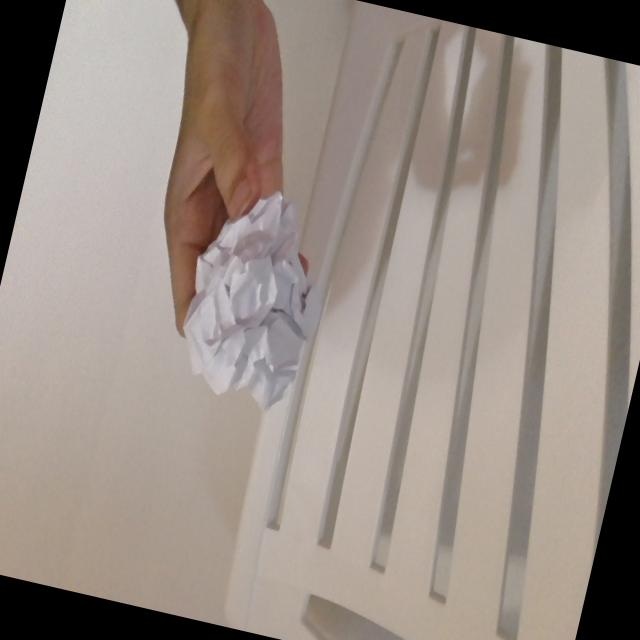crumpled_paper: (165, 175, 348, 420)
